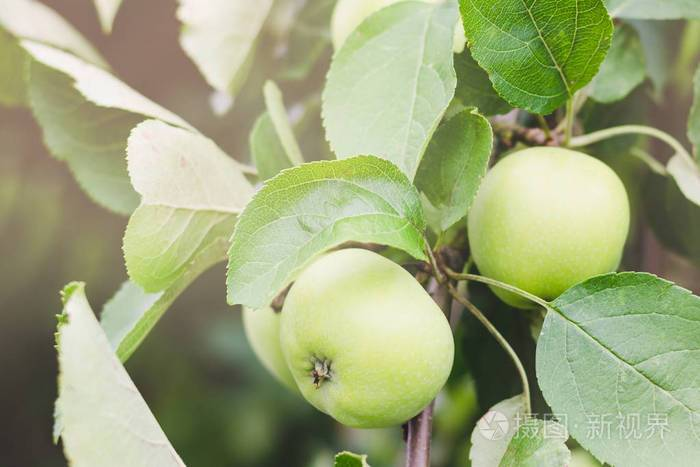unripe: (275, 248, 460, 434), (467, 144, 639, 318)
